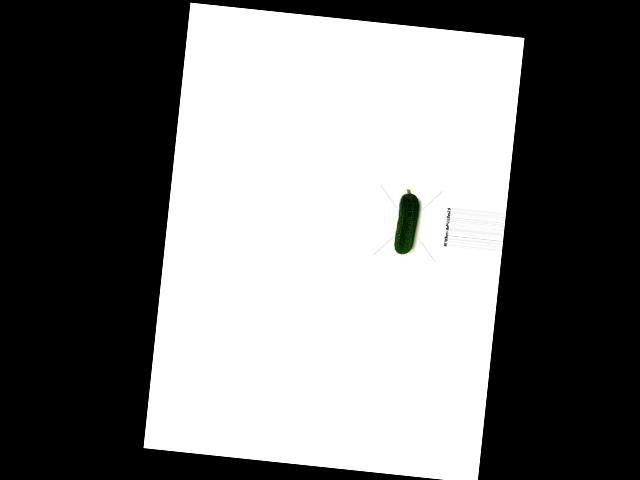cucumber: (393, 188, 420, 256)
